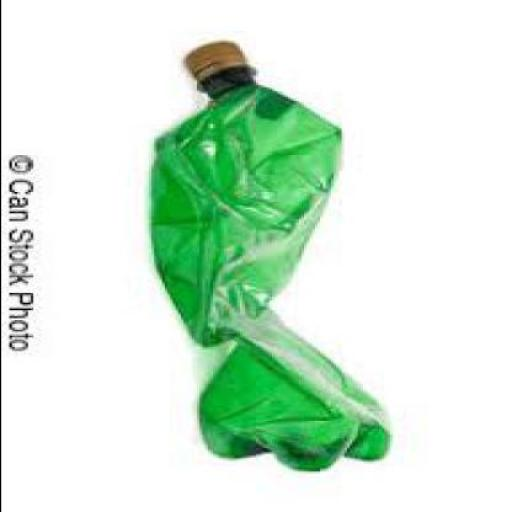plastic: (148, 38, 396, 470), (185, 41, 252, 80)
